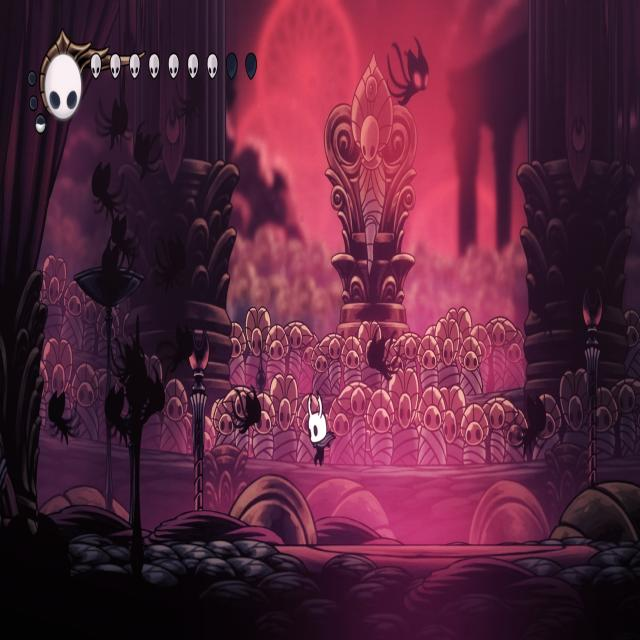Player: (304, 386, 338, 470)
Staggered_Grimm: (384, 29, 434, 109)
